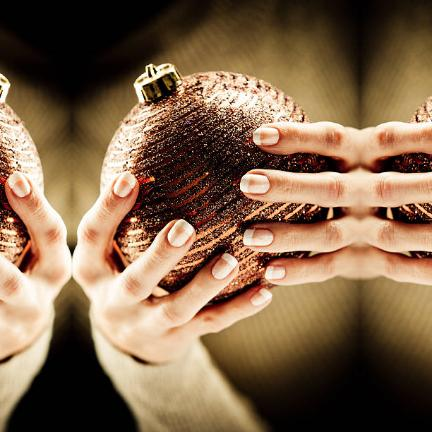Nail: (167, 219, 194, 247), (211, 253, 238, 280), (113, 171, 136, 197), (8, 171, 31, 197), (240, 174, 269, 194), (243, 229, 274, 246), (253, 127, 280, 146), (250, 288, 273, 306), (265, 265, 285, 280)
